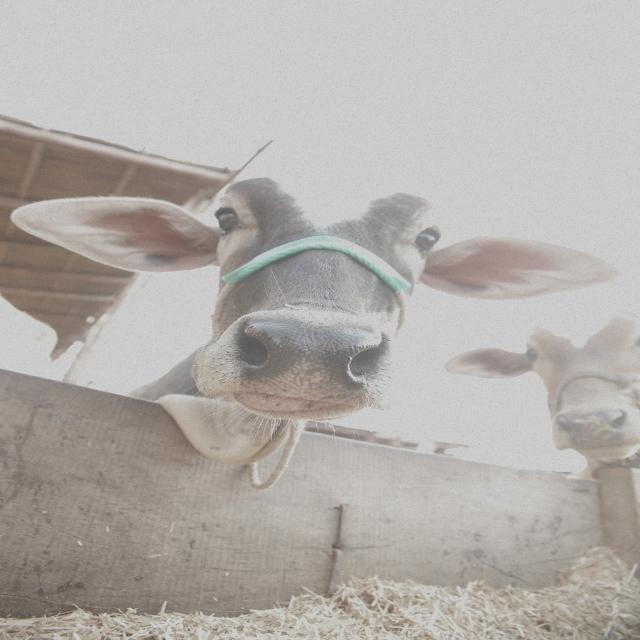muzzles: (219, 306, 393, 408), (550, 404, 638, 454)
